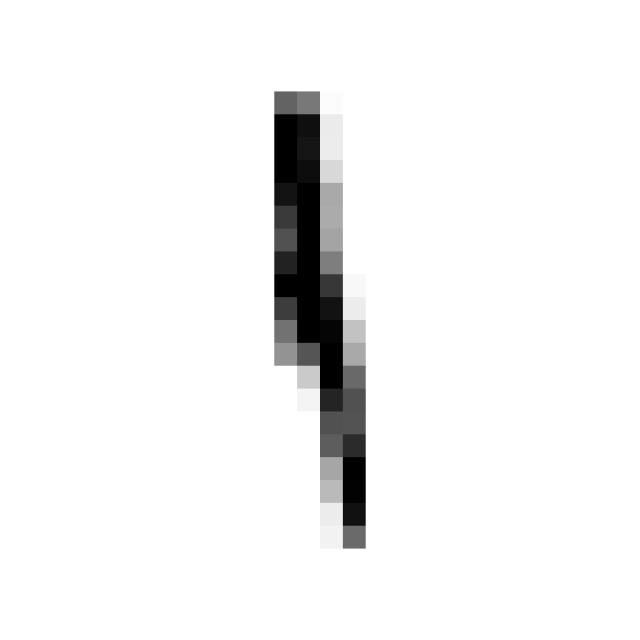1 -one-: (242, 71, 392, 561)
